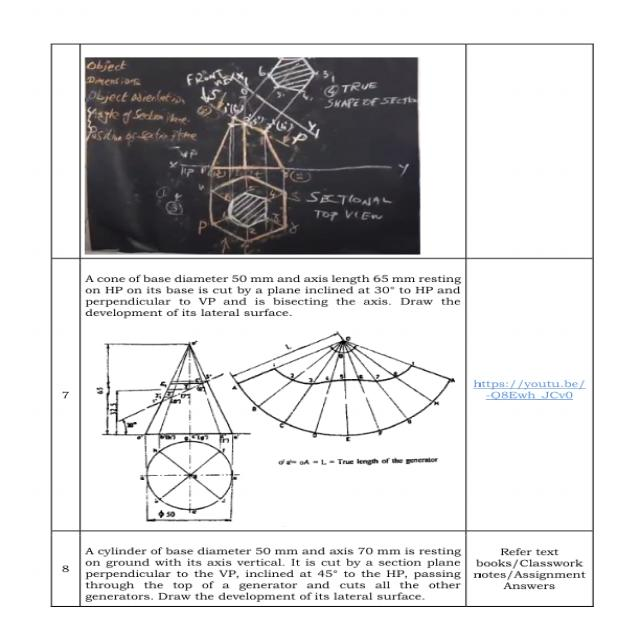Drawings: (89, 322, 461, 527), (154, 58, 418, 254)
